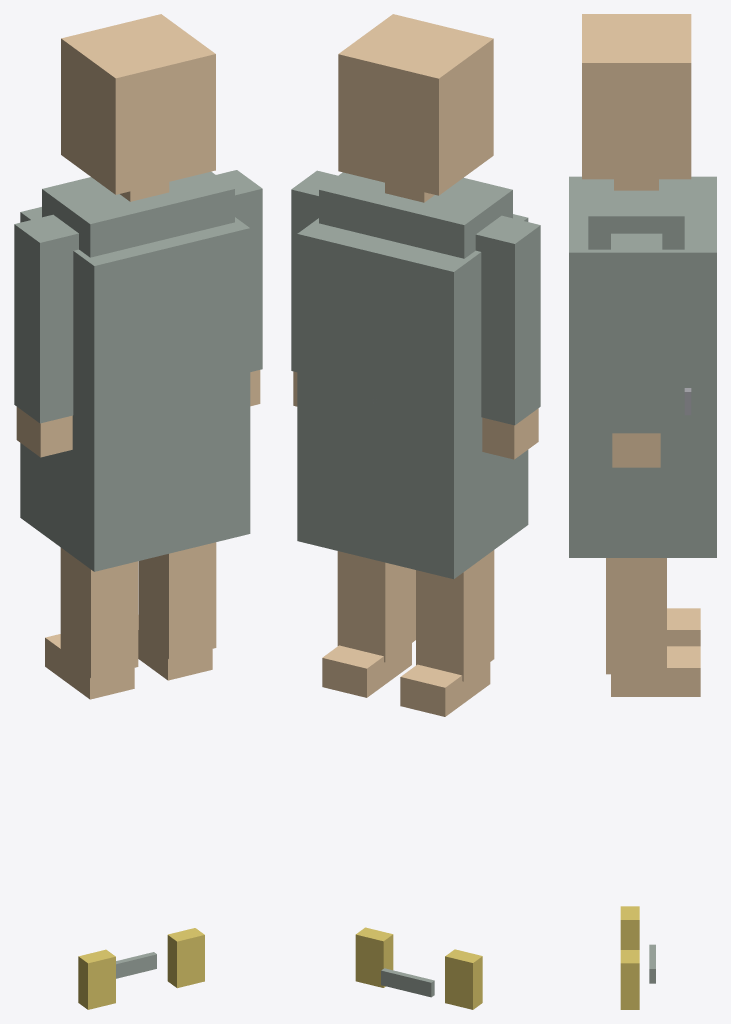
The model's file is daedalus.glb.
The picture shows the model from 3 angles, left to right: view 1: azimuth 30°, elevation 25°; view 2: azimuth 150°, elevation 25°; view 3: azimuth 270°, elevation 25°; orthographic projection.
Visible parts, largest first — view 1: outfit_tunic_0, head, arm_L_upper, torso, leg_L_shin, leg_R_shin, arm_R_upper, leg_L_foot, outfit_sandals_0, outfit_sandals_1, arm_L_hand, leg_R_foot (+1 smaller); view 2: outfit_tunic_0, head, arm_L_upper, torso, leg_L_shin, leg_R_shin, leg_L_foot, leg_R_foot, arm_R_upper, outfit_sandals_0, arm_L_hand, outfit_sandals_1 (+1 smaller); view 3: outfit_tunic_0, head, arm_R_upper, leg_R_shin, torso, leg_R_foot, arm_R_hand, leg_L_foot, outfit_sandals_1, outfit_sandals_0, neck.
Part boxes in pixels (box(x1,y1,x2,y2)): outfit_tunic_0: box(20, 207, 250, 571); head: box(61, 14, 215, 194); arm_L_upper: box(14, 214, 78, 423); torso: box(42, 171, 234, 257); leg_L_shin: box(60, 547, 138, 678); leg_R_shin: box(138, 542, 216, 659); arm_R_upper: box(216, 170, 262, 371); leg_L_foot: box(45, 634, 134, 699); outfit_sandals_0: box(78, 949, 115, 1009); outfit_sandals_1: box(167, 928, 204, 988); arm_L_hand: box(16, 407, 72, 457); leg_R_foot: box(138, 615, 212, 680); outfit_tunic_0: box(297, 214, 528, 579); head: box(338, 14, 493, 195); arm_L_upper: box(475, 215, 540, 425); torso: box(319, 172, 512, 258); leg_L_shin: box(416, 550, 494, 681); leg_R_shin: box(337, 551, 415, 662); leg_L_foot: box(400, 662, 490, 716); leg_R_foot: box(322, 643, 411, 697); arm_R_upper: box(291, 170, 337, 372); outfit_sandals_0: box(445, 949, 482, 1009); arm_L_hand: box(482, 408, 538, 459); outfit_sandals_1: box(355, 927, 393, 987); outfit_tunic_0: box(569, 176, 716, 557); head: box(582, 14, 691, 179); arm_R_upper: box(611, 233, 662, 433); leg_R_shin: box(606, 558, 666, 674); torso: box(588, 179, 684, 249); leg_R_foot: box(611, 646, 700, 696); arm_R_hand: box(612, 433, 660, 467); leg_L_foot: box(667, 608, 700, 646); outfit_sandals_1: box(620, 950, 639, 1009); outfit_sandals_0: box(620, 906, 639, 949); neck: box(614, 179, 658, 190).
Bounding box in the file's own units: 0.8 × 3.24 × 0.46.
